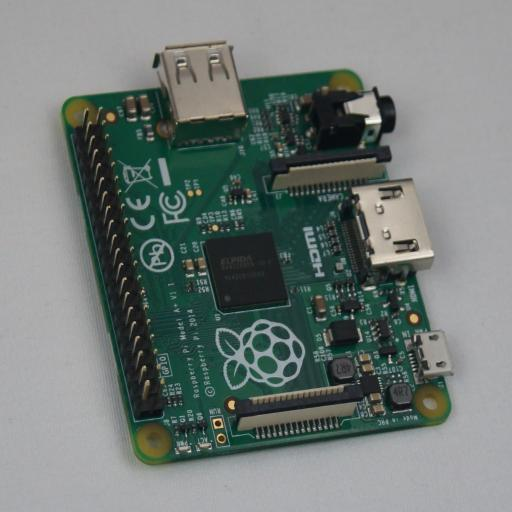Raspberry Pi A-: (62, 42, 454, 466)
